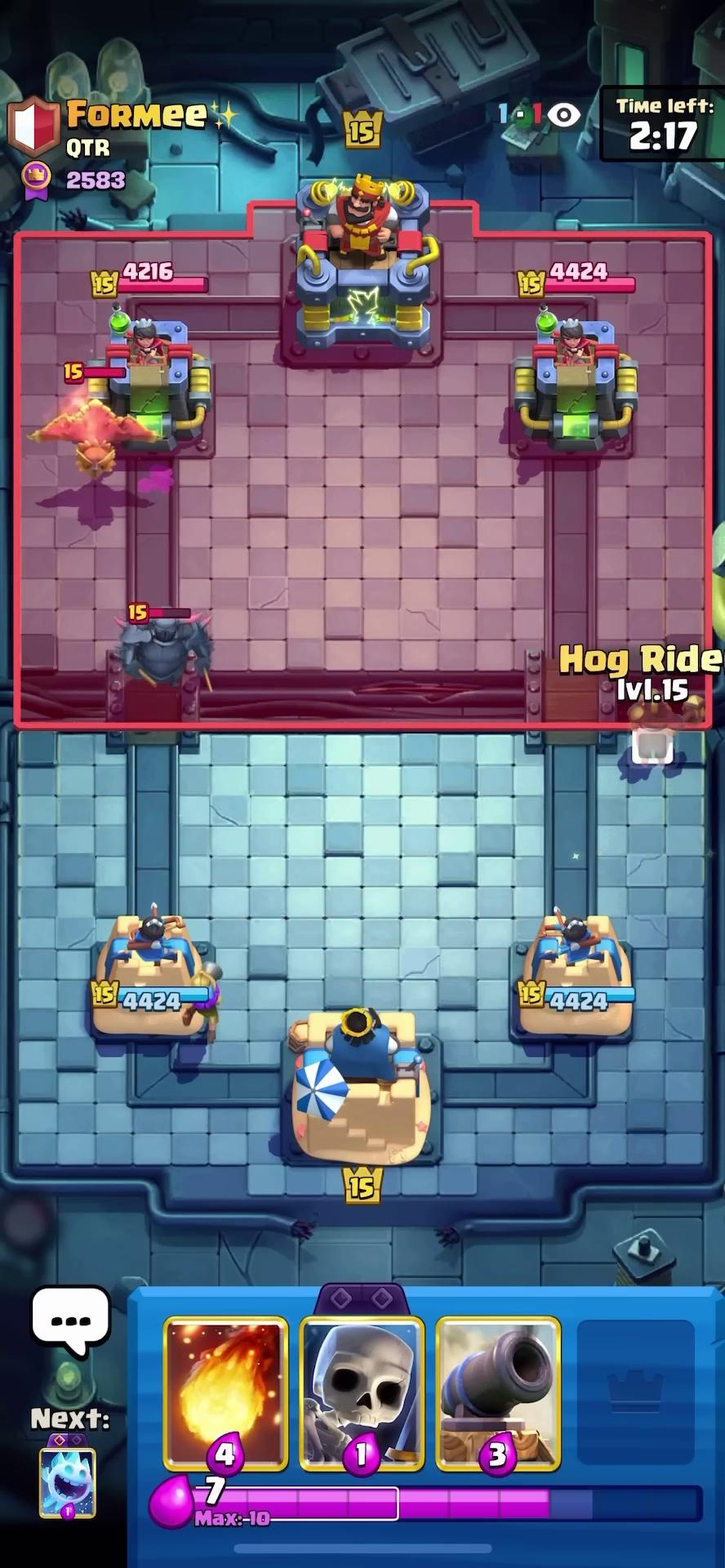musketeer: (173, 947, 235, 1045)
